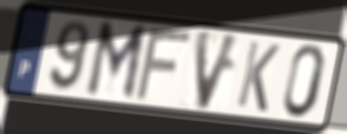0: (281, 42, 329, 121)
9: (45, 18, 91, 95)
F: (132, 28, 196, 104)
K: (233, 38, 282, 115)
M: (82, 19, 150, 105)
V: (194, 27, 244, 114)
